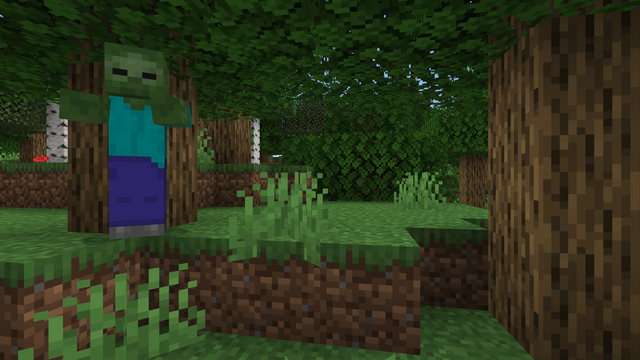zombies: (89, 45, 181, 241)
